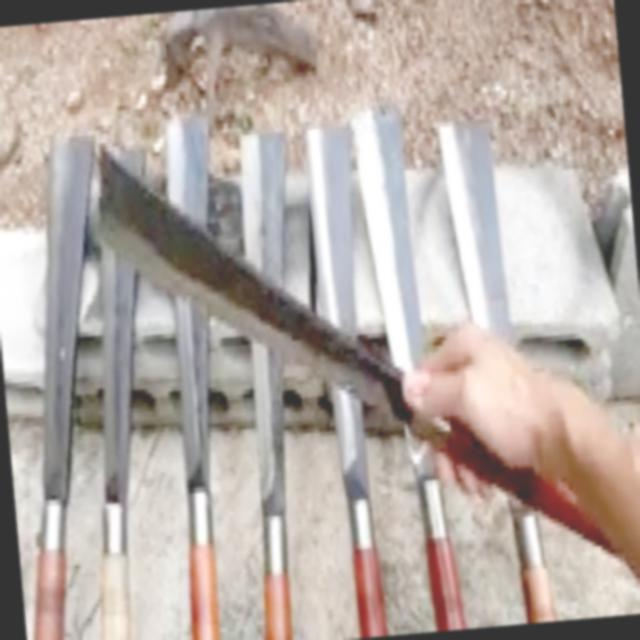eto: (97, 146, 631, 559)
